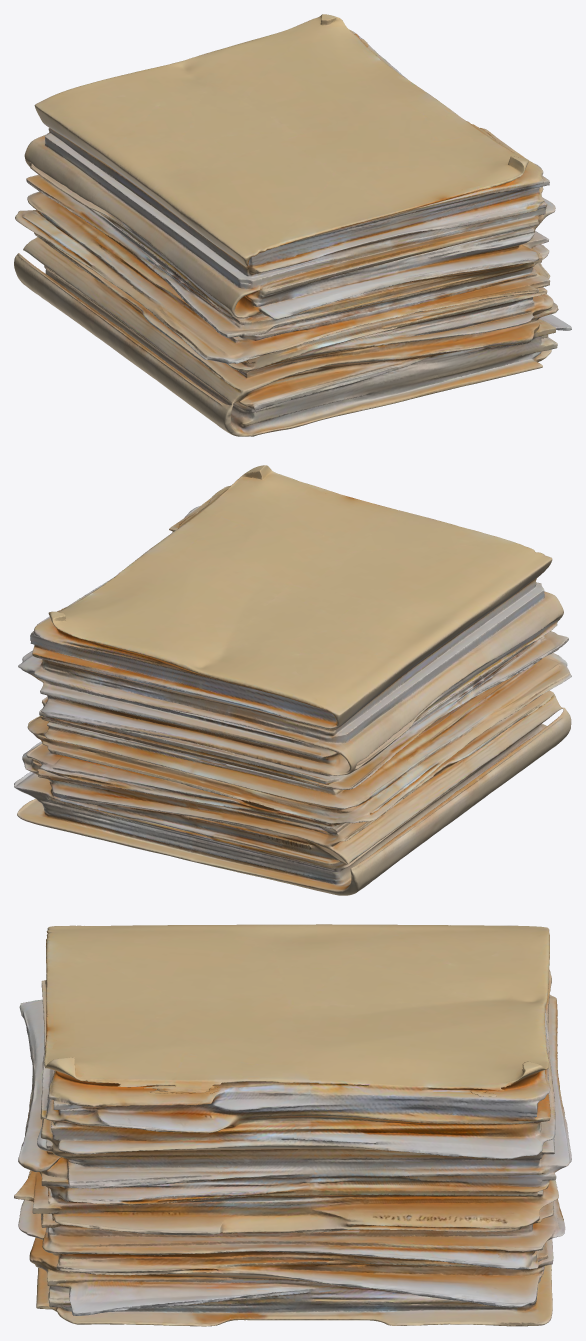
Rendered from document.fbx.
3 renders of one model, top to bottom at view 1: azimuth 30°, elevation 25°; view 2: azimuth 150°, elevation 25°; view 3: azimuth 270°, elevation 25°, orthographic. The views are drawn at different scales.
Visible parts, largest first — view 1: tripo_node_ef49d1eb-056d-46f7-8614-a7cb5887bc29; view 2: tripo_node_ef49d1eb-056d-46f7-8614-a7cb5887bc29; view 3: tripo_node_ef49d1eb-056d-46f7-8614-a7cb5887bc29.
Boxes of the visible parts, bbox=[...] form: tripo_node_ef49d1eb-056d-46f7-8614-a7cb5887bc29: bbox=[14, 14, 571, 436]; tripo_node_ef49d1eb-056d-46f7-8614-a7cb5887bc29: bbox=[14, 465, 571, 895]; tripo_node_ef49d1eb-056d-46f7-8614-a7cb5887bc29: bbox=[14, 924, 571, 1326].
Bounding box in the file's own units: 0.9021 × 0.4876 × 0.9976.
Materials: 1 (1 with a texture image).
